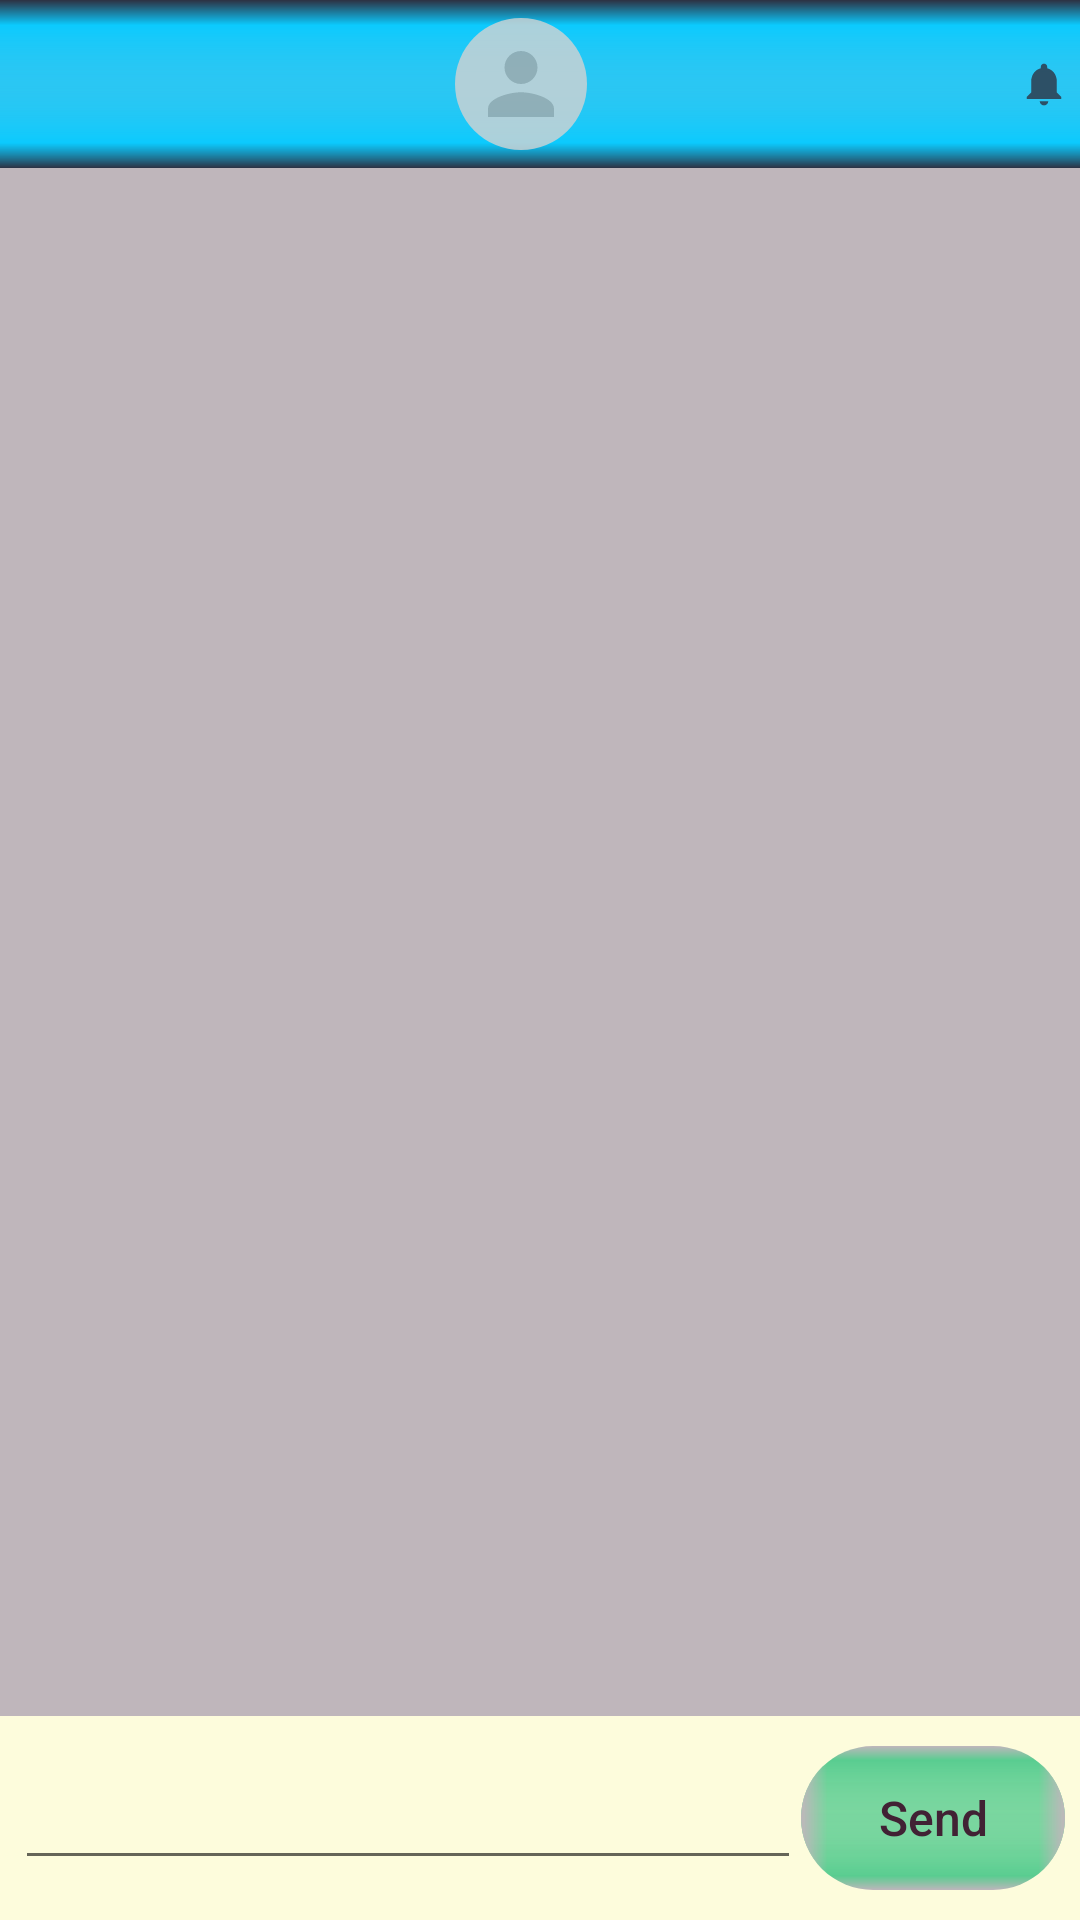

Where to tap for icons on this 1080 x 1920 app screen, as (x=x, y=y):
notify: (x=1044, y=84)
user picture: (x=521, y=84)
